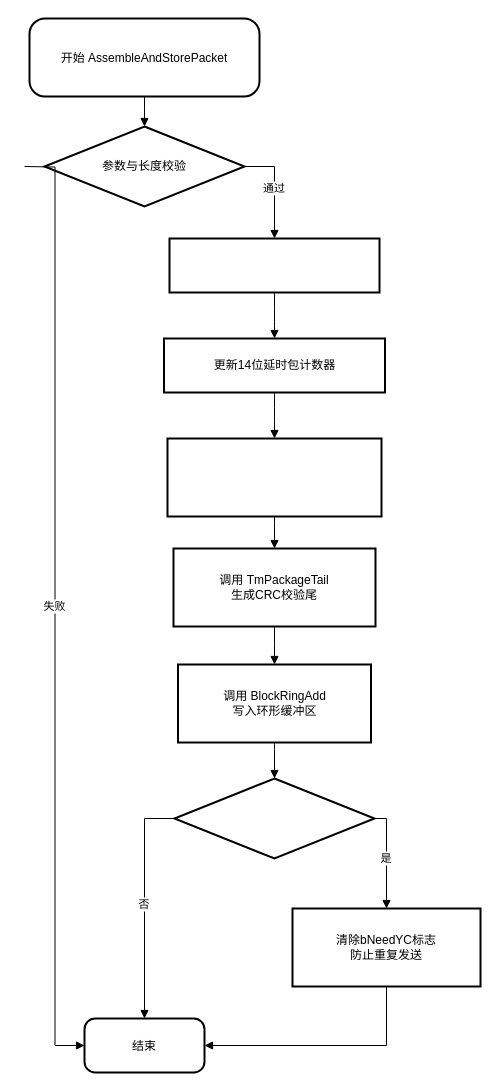
Image size: 499x1090. Some labels were removed from this diagram. Each missing label, with the centre of its shape:
拷贝数据载荷到局部Buffer: the point at 274,265
是境外异步包?: the point at 274,818
调用 TmPackageHead 生成CCSDS+PUS头: the point at 274,477
